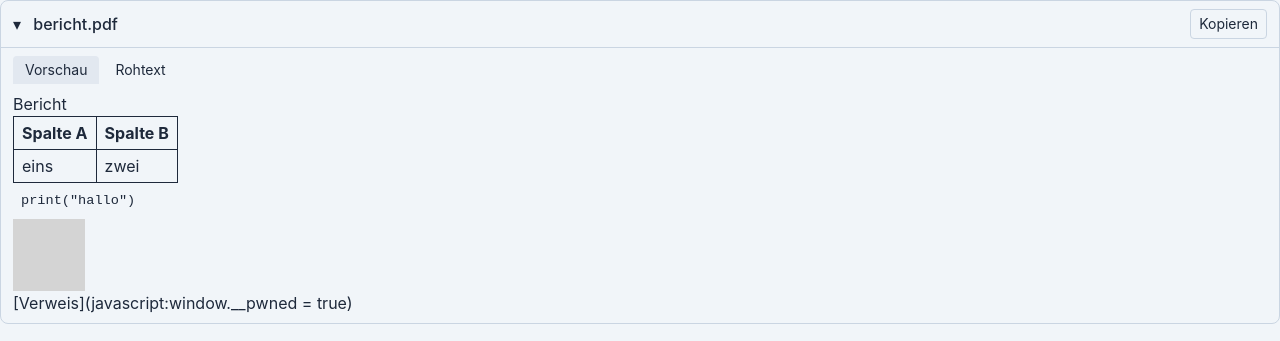
Test case: MarkdownPreview › kopiert den Rohtext und meldet es sichtbar
Click the button "Kopieren": point(1229, 24) top-left (1190, 9), bottom-right (1267, 39)
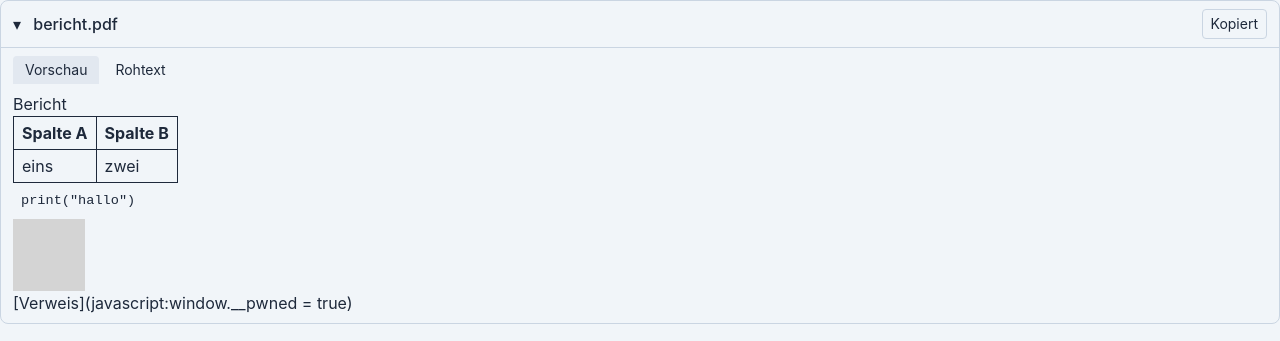
Result: the button "Kopiert" is shown at top-left (1202, 9), bottom-right (1267, 39)
